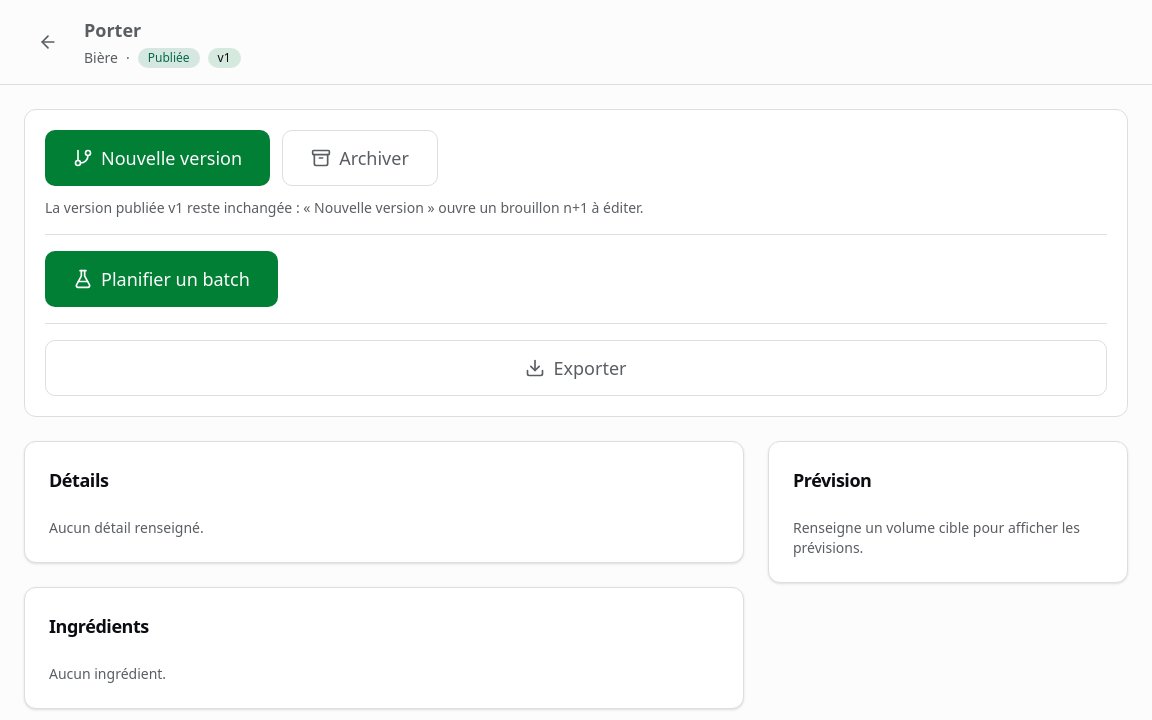
page détail — versions & lecture seule › « nouvelle version » crée le brouillon n+1 et ouvre son éditeur
Click the button "Nouvelle version" at (158, 158), box [45,130,270,186]
(page scrolled)
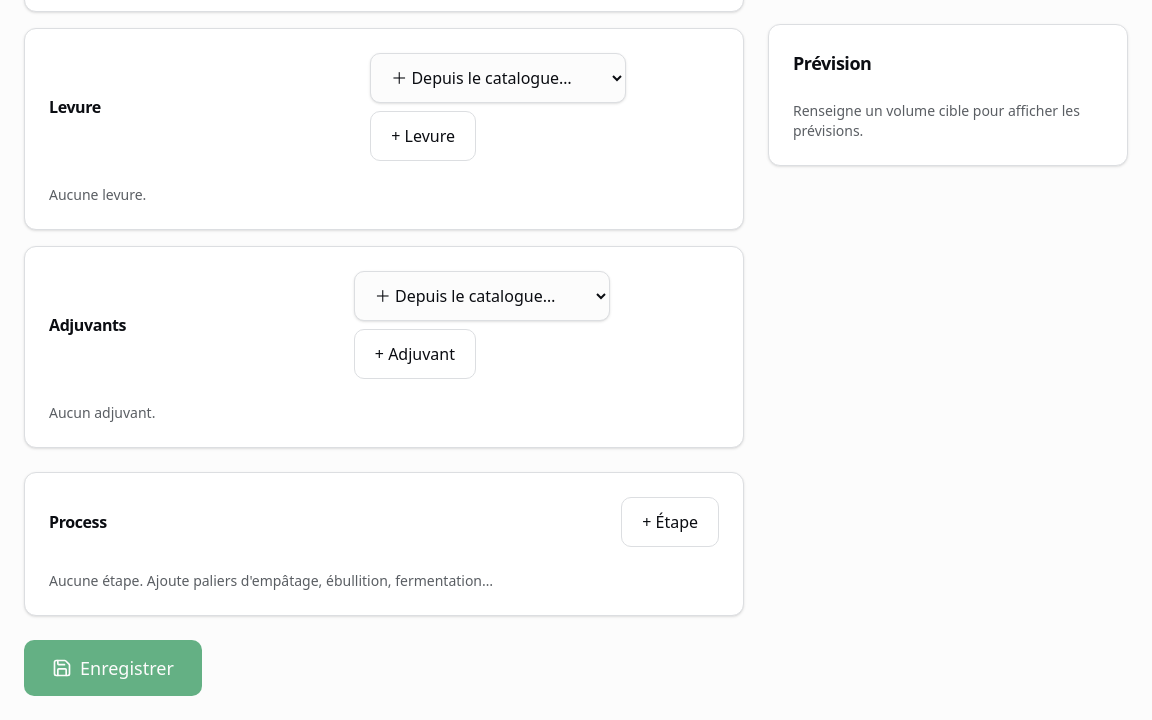
Now the button "Enregistrer" is shown, box [24,640,202,696]
